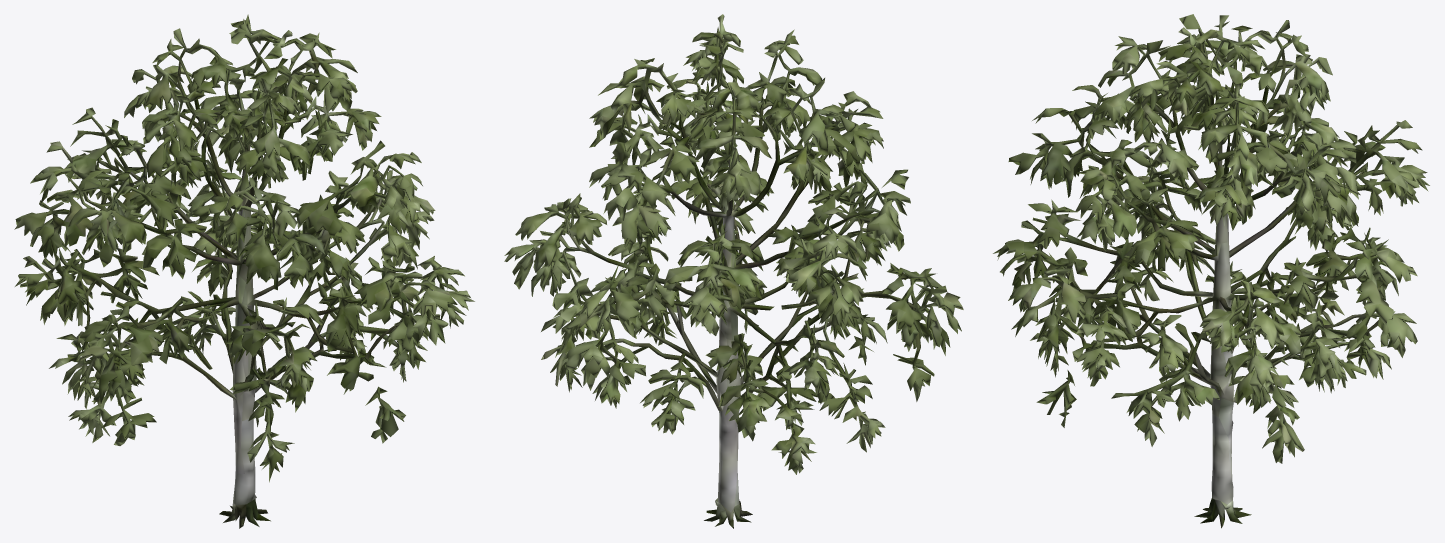
Rendered from tree_birch.glb.
The picture shows the model from 3 angles, left to right: view 1: azimuth 30°, elevation 25°; view 2: azimuth 150°, elevation 25°; view 3: azimuth 270°, elevation 25°; orthographic projection. The views are drawn at different scales.
Visible parts, largest first — view 1: tripo_node_6348fdd6-a523-4c10-8711-a1d7e93030aa; view 2: tripo_node_6348fdd6-a523-4c10-8711-a1d7e93030aa; view 3: tripo_node_6348fdd6-a523-4c10-8711-a1d7e93030aa.
Part boxes in pixels (x1,y1,x2,y2): tripo_node_6348fdd6-a523-4c10-8711-a1d7e93030aa: (14,14,474,528); tripo_node_6348fdd6-a523-4c10-8711-a1d7e93030aa: (504,14,963,528); tripo_node_6348fdd6-a523-4c10-8711-a1d7e93030aa: (993,14,1429,528).
Size of the model in its own units: 0.8675 by 1 by 0.7894.
Materials: 1 (1 with a texture image).
